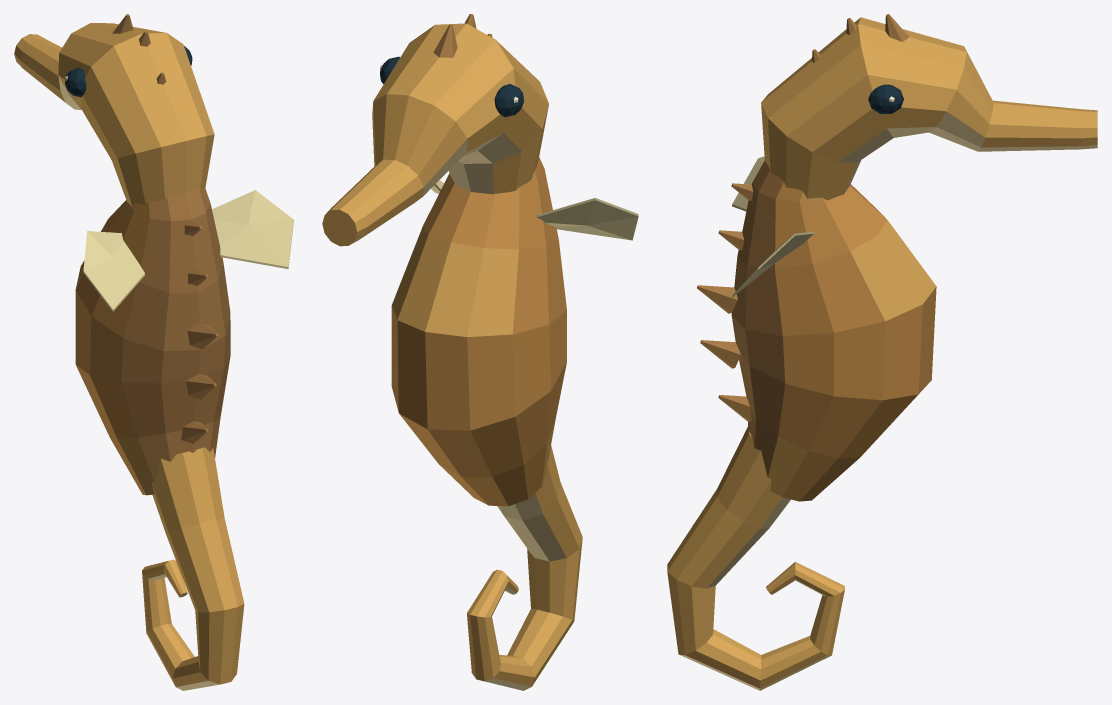
File: wild_seahorse.glb
3 views of the same model, side by side, from view 1: azimuth 30°, elevation 25°; view 2: azimuth 150°, elevation 25°; view 3: azimuth 270°, elevation 25° (orthographic). The views are drawn at different scales.
Parts seen in each view (by area): view 1: upright seahorse trunk, horse head and tubular snout, coiled prehensile tail, tiny fluttering fin.001, tiny fluttering fin; view 2: upright seahorse trunk, horse head and tubular snout, coiled prehensile tail, tiny fluttering fin; view 3: upright seahorse trunk, horse head and tubular snout, coiled prehensile tail, tiny fluttering fin.001.
Part boxes in pixels (x1,y1,x2,y2): upright seahorse trunk: (75, 186, 230, 495); horse head and tubular snout: (14, 14, 214, 206); coiled prehensile tail: (142, 447, 244, 690); tiny fluttering fin.001: (212, 190, 293, 268); tiny fluttering fin: (83, 231, 144, 311); upright seahorse trunk: (391, 157, 566, 506); horse head and tubular snout: (322, 14, 548, 246); coiled prehensile tail: (467, 445, 582, 690); tiny fluttering fin: (535, 198, 638, 240); upright seahorse trunk: (697, 160, 936, 501); horse head and tubular snout: (761, 14, 1097, 200); coiled prehensile tail: (667, 427, 844, 690); tiny fluttering fin.001: (732, 231, 814, 297).
Size of the model in its own units: 0.3 by 0.8606 by 0.4981.
